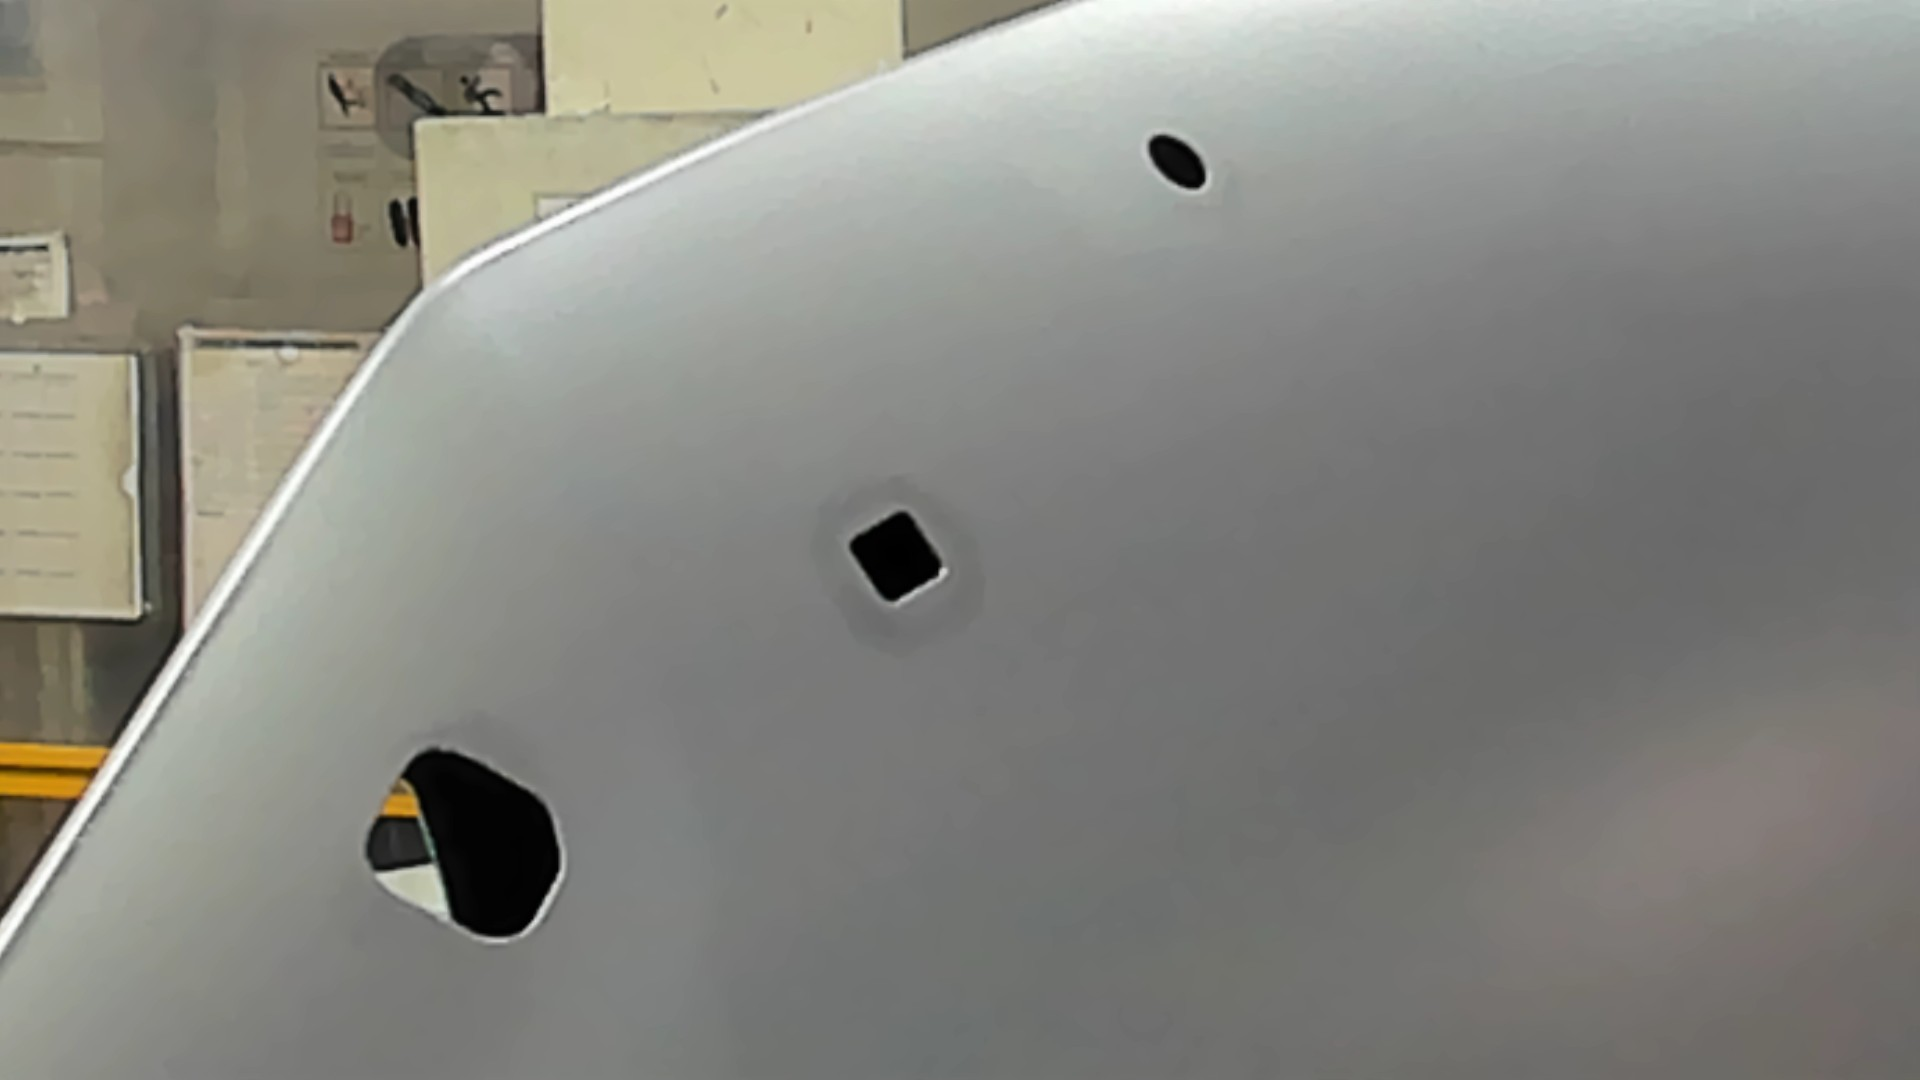capo: (961, 198, 1920, 1080)
chico: (1149, 131, 1211, 191)
grande: (355, 745, 574, 951)
mediano: (839, 501, 953, 615)
